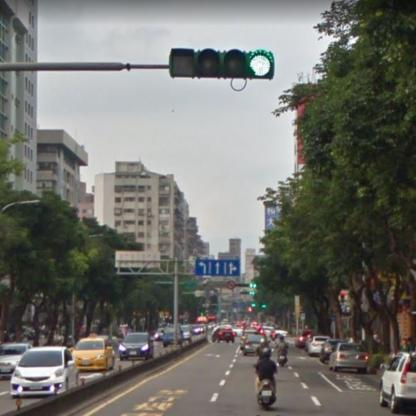Green Light: (168, 47, 276, 78)
